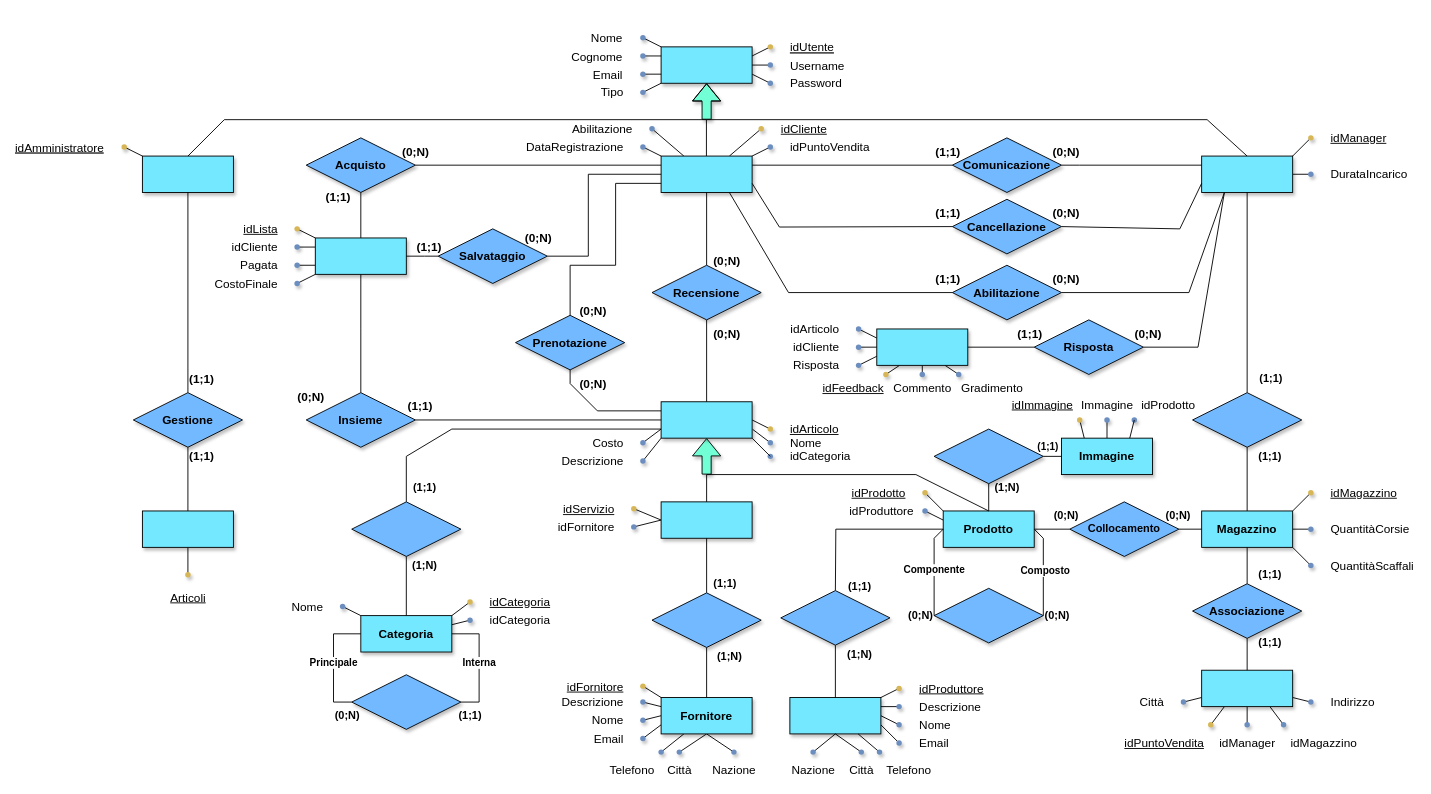
Some shapes in this 1431 by 794 pixel diagram are drawn without their labels. The shapes that lost their labels are listed below. From the top down, each one's centre as x and y in pixels, then its label:
[707,66]: Utente
[188,175]: Amministratore
[707,175]: Acquirente
[1247,175]: Manager
[361,257]: ListaAcquisto
[922,348]: Feedback
[707,421]: Articolo
[1247,421]: Ordine
[989,457]: Rappresentazione
[188,530]: Catalogo
[406,530]: Suddivisione
[707,521]: Servizio
[707,621]: Fornitura
[835,619]: Produzione
[989,616]: Composizione
[406,703]: Sottocategoria
[1247,689]: PuntoVendita
[835,716]: Produttore
